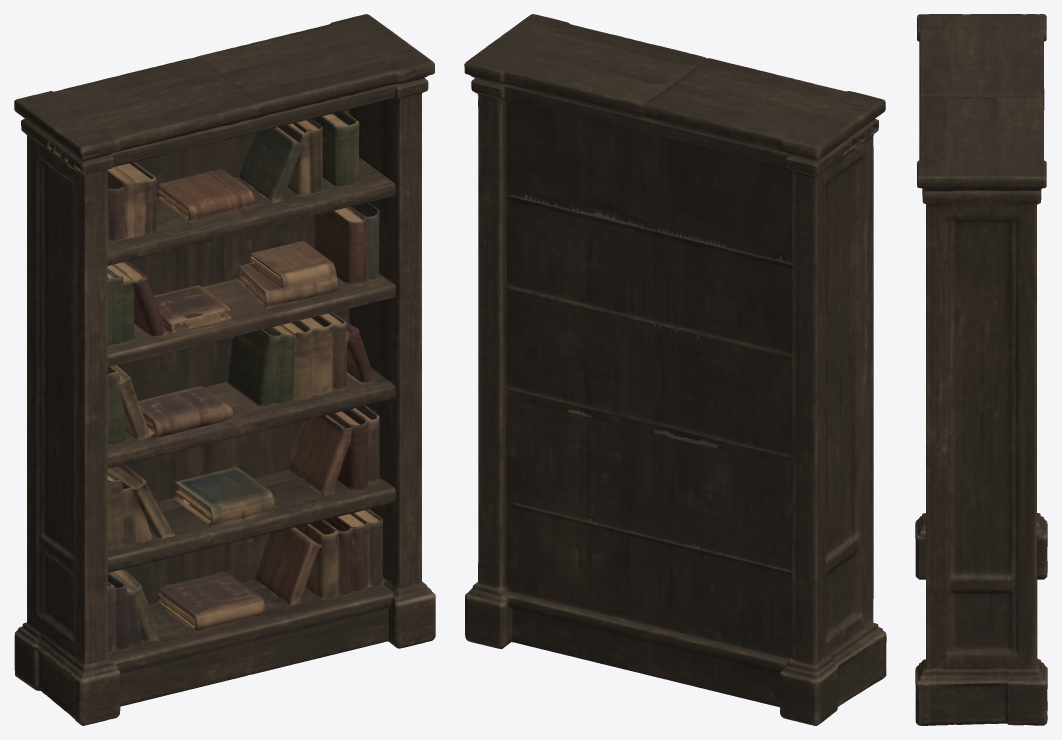
Rendered from shelf.glb.
3 renders of one model, left to right at view 1: azimuth 30°, elevation 25°; view 2: azimuth 150°, elevation 25°; view 3: azimuth 270°, elevation 25°, orthographic. The views are drawn at different scales.
Visible parts, largest first — view 1: world; view 2: world; view 3: world.
Boxes of the visible parts, <box> form: world: <box>14,14,435,725</box>; world: <box>464,14,886,725</box>; world: <box>915,14,1047,725</box>.
Size of the model in its own units: 0.6475 by 1 by 0.2186.
Materials: 1 (1 with a texture image).
